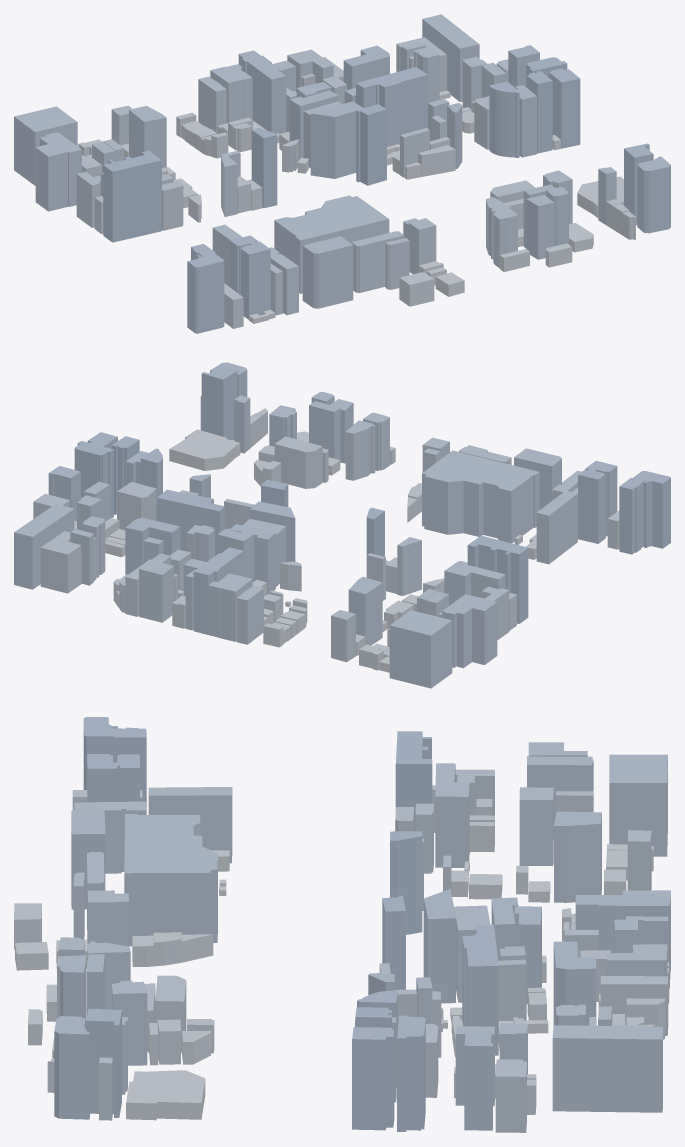
3 renders of one model, top to bottom at view 1: azimuth 30°, elevation 25°; view 2: azimuth 150°, elevation 25°; view 3: azimuth 270°, elevation 25°, orthographic. The views are drawn at different scales.
Size of the model in its own units: 375 by 52.21 by 320.
